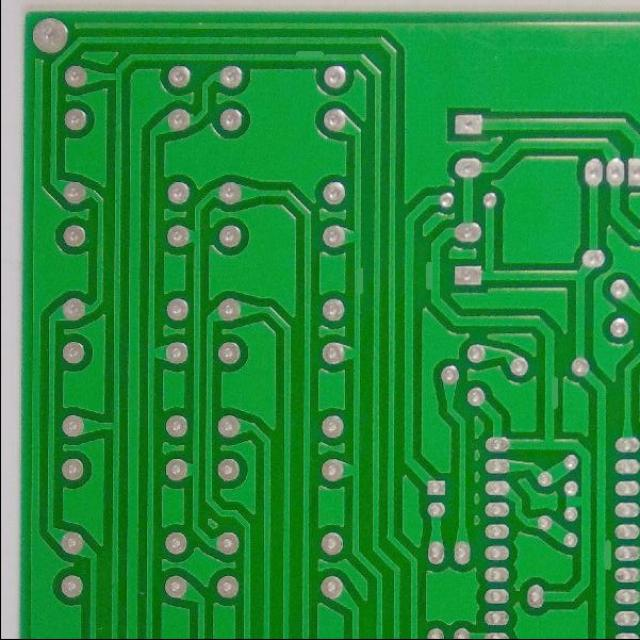spur: (288, 44, 329, 66), (418, 252, 438, 294), (543, 373, 562, 414), (598, 536, 616, 577), (352, 261, 368, 301)
